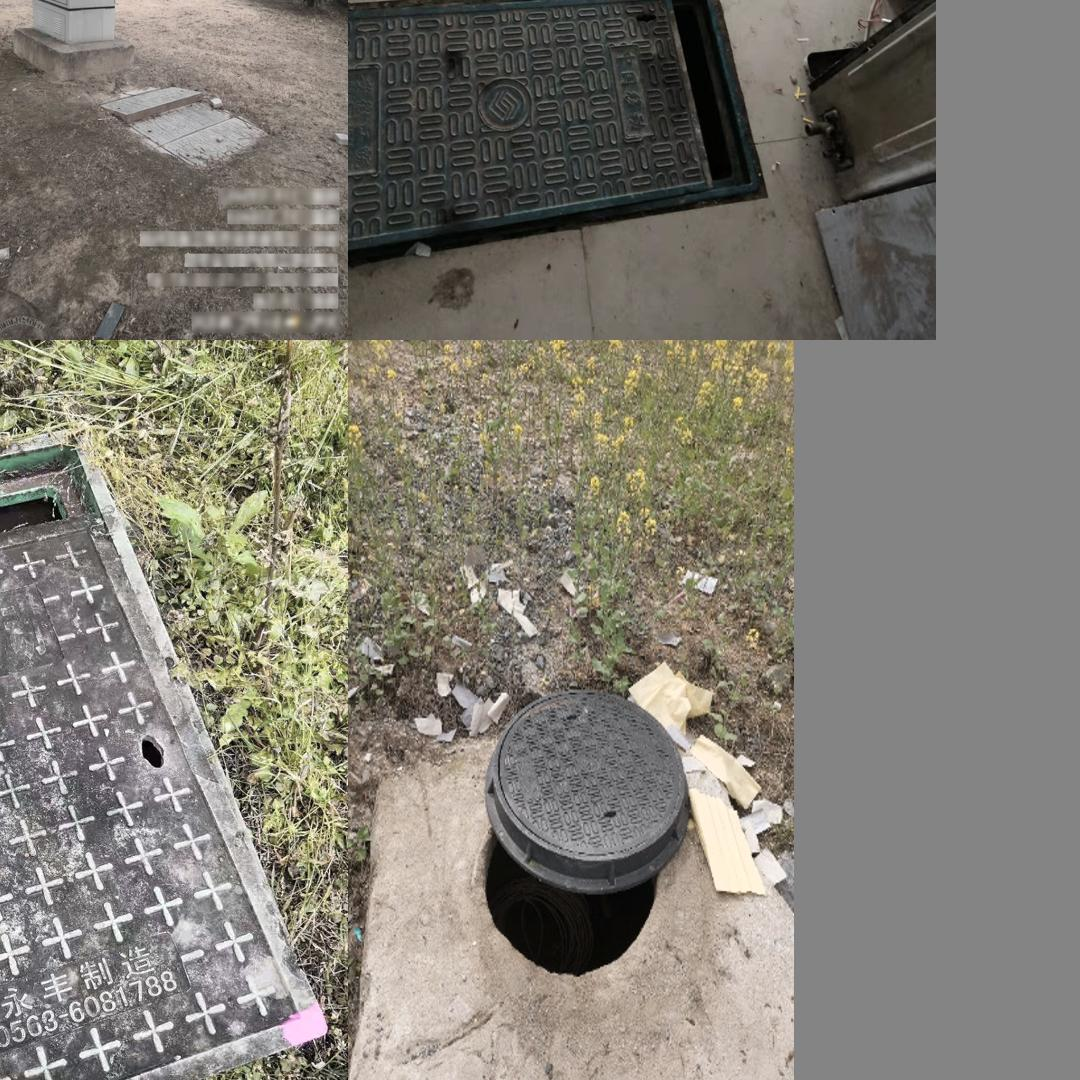uncovered: (0, 423, 324, 1080), (352, 0, 770, 272), (479, 687, 687, 973), (99, 84, 271, 173)
